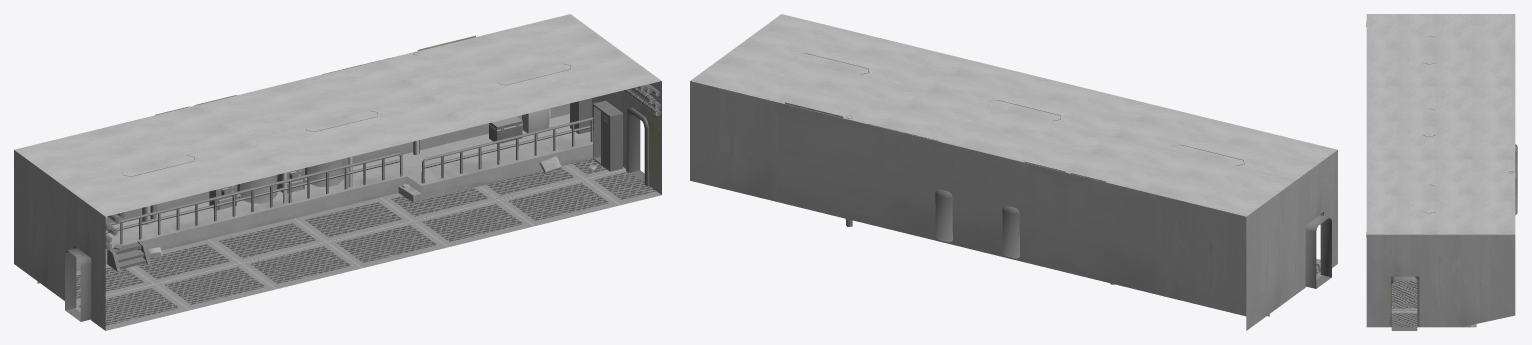
Rendered from MSH_QuestVault_L2_R3_optimized.fbx.
3 views of the same model, side by side, from view 1: azimuth 30°, elevation 25°; view 2: azimuth 150°, elevation 25°; view 3: azimuth 270°, elevation 25° (orthographic). The views are drawn at different scales.
Parts seen in each view (by area): view 1: lightmap0, lightmap3, lightmap1, lightmap2, MSH_QuestVault_L2_R3_Dirt_01; view 2: lightmap0, lightmap1; view 3: lightmap0, lightmap1.
Boxes of the visible parts, x1,y1,x2,y2 form: lightmap0: [14, 14, 661, 330]; lightmap3: [105, 52, 593, 271]; lightmap1: [65, 108, 644, 321]; lightmap2: [570, 98, 622, 171]; MSH_QuestVault_L2_R3_Dirt_01: [155, 35, 659, 180]; lightmap0: [690, 14, 1337, 330]; lightmap1: [1305, 215, 1331, 288]; lightmap0: [1366, 14, 1517, 327]; lightmap1: [1391, 276, 1417, 330].
Size of the model in its own units: 30.91 by 6.09 by 8.67.
